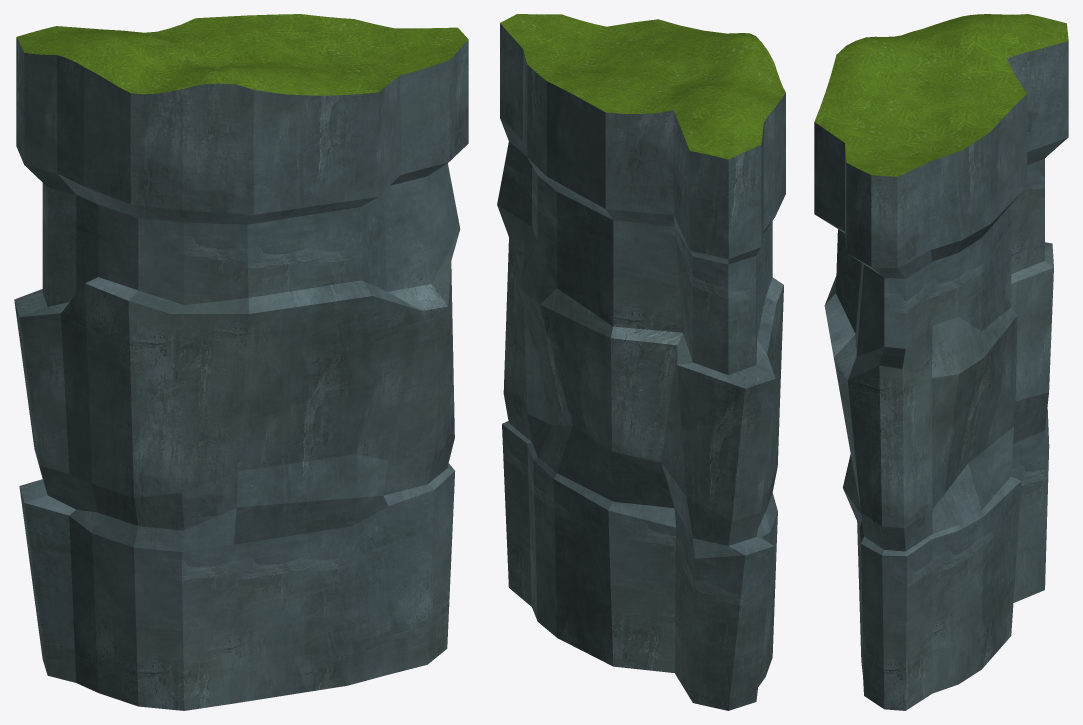
File: IslandTower_1.fbx
3 views of the same model, side by side, from view 1: azimuth 30°, elevation 25°; view 2: azimuth 150°, elevation 25°; view 3: azimuth 270°, elevation 25° (orthographic). The views are drawn at different scales.
Parts seen in each view (by area): view 1: pPlane6; view 2: pPlane6; view 3: pPlane6.
Part boxes in pixels (left/top/right/bottom): pPlane6: left=14, top=14, right=468, bottom=710; pPlane6: left=497, top=14, right=785, bottom=710; pPlane6: left=814, top=14, right=1068, bottom=710.
Bounding box in the file's own units: 2.1 × 3.47 × 1.41.
